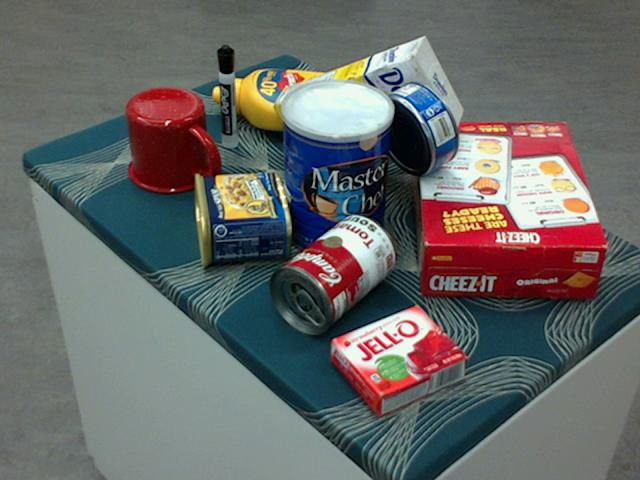cracker_box: (410, 121, 605, 297)
gelatin_box: (330, 304, 467, 415)
large_marker: (215, 44, 238, 148)
master_chef_can: (280, 80, 393, 261)
mug: (125, 86, 217, 193)
mustard_bottle: (211, 67, 378, 137)
potted_meat_can: (191, 170, 291, 267)
sugar_box: (269, 36, 462, 172)
tomato_soup_can: (267, 214, 396, 333)
tuna_fish_can: (375, 79, 459, 174)
